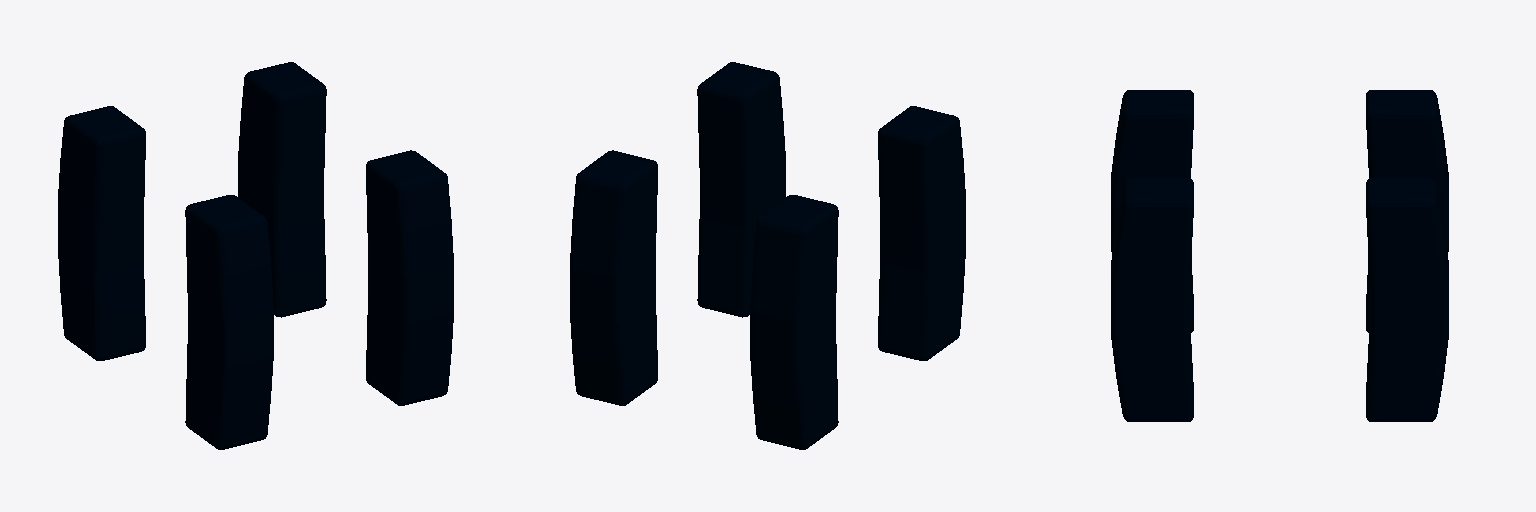
File: BlueLegs.obj
3 views of the same model, side by side, from view 1: azimuth 30°, elevation 25°; view 2: azimuth 150°, elevation 25°; view 3: azimuth 270°, elevation 25° (orthographic).
Visible parts, largest first — view 1: Blue_Legs_Plane.005; view 2: Blue_Legs_Plane.005; view 3: Blue_Legs_Plane.005.
Boxes of the visible parts, x1,y1,x2,y2 form: Blue_Legs_Plane.005: [58, 62, 453, 449]; Blue_Legs_Plane.005: [570, 62, 965, 449]; Blue_Legs_Plane.005: [1111, 90, 1448, 421].
Size of the model in its own units: 0.3954 by 0.3649 by 0.5002.